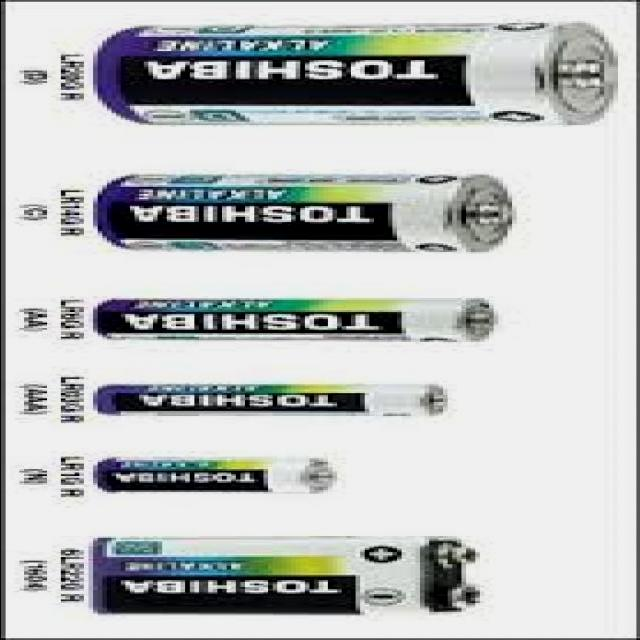AA: (88, 291, 500, 353)
AAA: (89, 380, 456, 419)
